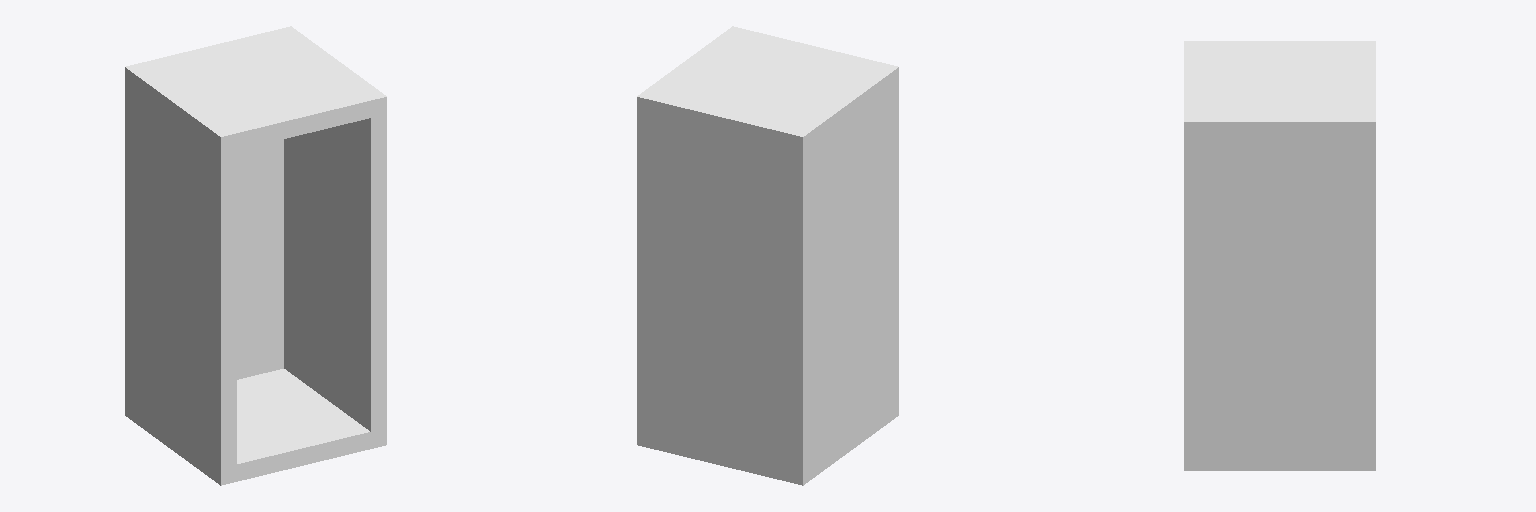
File: SingleRoom.obj
3 renders of one model, left to right at view 1: azimuth 30°, elevation 25°; view 2: azimuth 150°, elevation 25°; view 3: azimuth 270°, elevation 25°, orthographic.
Parts seen in each view (by area): view 1: SingleRoom; view 2: SingleRoom; view 3: SingleRoom.
Boxes of the visible parts, x1=… form: SingleRoom: x1=125, y1=26, x2=386, y2=485; SingleRoom: x1=637, y1=26, x2=898, y2=485; SingleRoom: x1=1184, y1=41, x2=1375, y2=470.
Bounding box in the file's own units: 20 × 40 × 20.